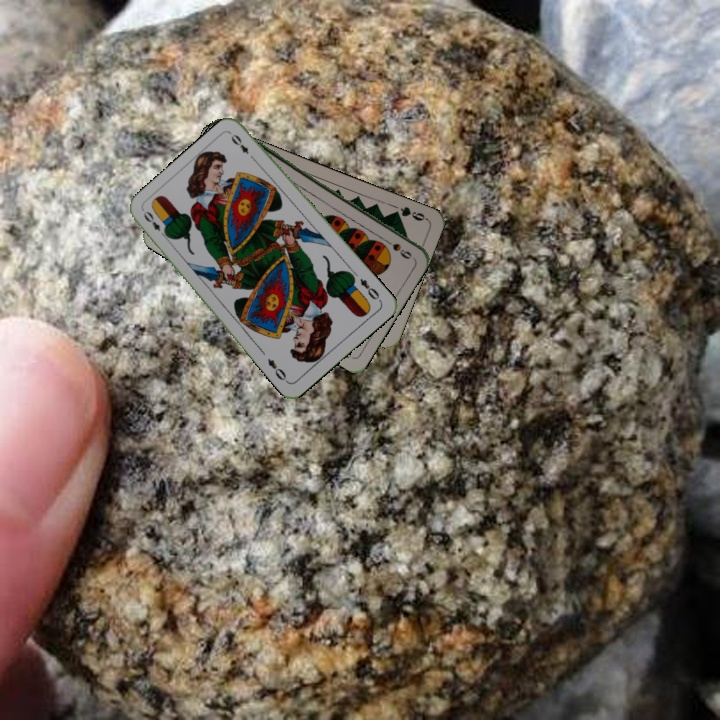EO: (139, 207, 170, 241), (356, 274, 384, 304)
G9: (388, 202, 430, 223)
S9: (378, 234, 414, 261)
